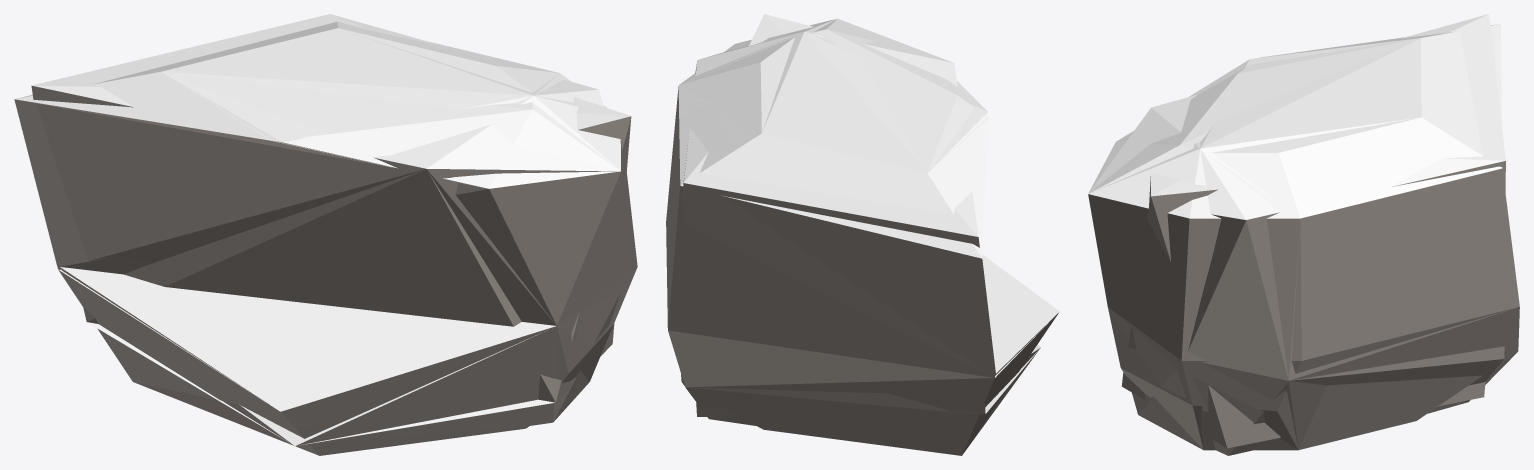
The model's file is Rock_29_Snowy.fbx.
The picture shows the model from 3 angles, left to right: view 1: azimuth 30°, elevation 25°; view 2: azimuth 150°, elevation 25°; view 3: azimuth 270°, elevation 25°; orthographic projection. The views are drawn at different scales.
Visible parts, largest first — view 1: Rock 29_LOD0_Snowy, Rock 29_LOD2_Snowy, Rock 29_LOD3_Snowy, Rock 29_LOD1_Snowy; view 2: Rock 29_LOD1_Snowy, Rock 29_LOD0_Snowy, Rock 29_LOD2_Snowy, Rock 29_LOD3_Snowy; view 3: Rock 29_LOD0_Snowy, Rock 29_LOD1_Snowy, Rock 29_LOD2_Snowy, Rock 29_LOD3_Snowy.
Boxes of the visible parts, <box> form: Rock 29_LOD0_Snowy: <box>14,21,637,454</box>; Rock 29_LOD2_Snowy: <box>31,14,619,446</box>; Rock 29_LOD3_Snowy: <box>83,97,631,445</box>; Rock 29_LOD1_Snowy: <box>17,23,620,455</box>; Rock 29_LOD1_Snowy: <box>668,19,1058,455</box>; Rock 29_LOD0_Snowy: <box>666,18,1059,455</box>; Rock 29_LOD2_Snowy: <box>681,19,1040,450</box>; Rock 29_LOD3_Snowy: <box>696,14,1039,416</box>; Rock 29_LOD0_Snowy: <box>1088,24,1519,450</box>; Rock 29_LOD1_Snowy: <box>1089,24,1519,450</box>; Rock 29_LOD2_Snowy: <box>1088,14,1505,455</box>; Rock 29_LOD3_Snowy: <box>1121,173,1485,448</box>.
Size of the model in its own units: 85.9 by 54.88 by 77.76.
